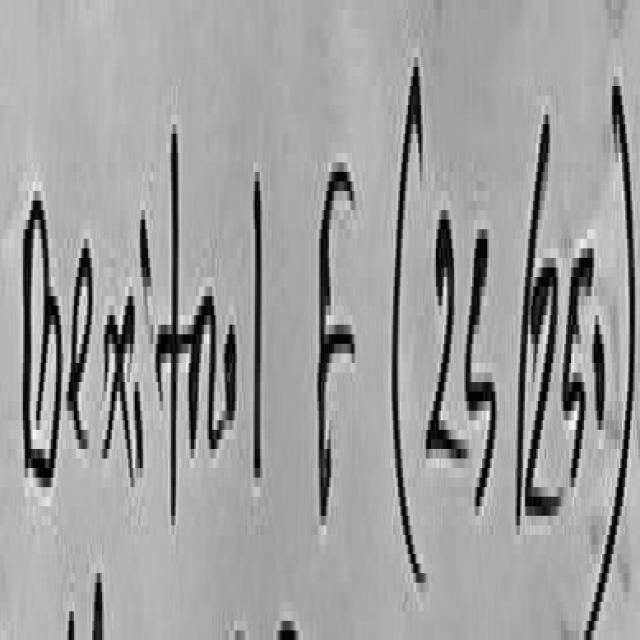0: (594, 315, 607, 425)
2: (428, 210, 467, 454), (526, 272, 563, 511)
5: (467, 229, 497, 501), (564, 248, 595, 482)
B: (23, 187, 65, 499)
F: (319, 172, 355, 511)
e: (67, 239, 93, 465)
i: (140, 210, 151, 310), (136, 382, 143, 463)
l: (253, 183, 261, 473)
o: (225, 325, 235, 416)
r: (191, 287, 225, 449)
t: (156, 124, 191, 511)
x: (103, 296, 135, 473)
